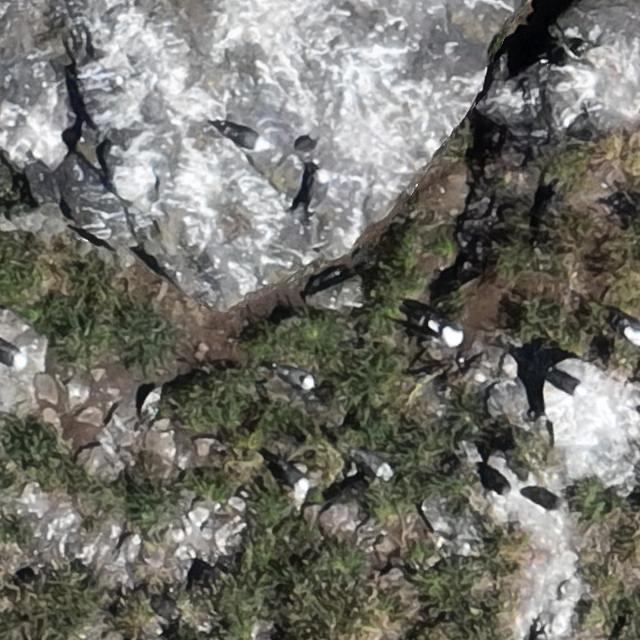umineko: (282, 464, 311, 494), (223, 128, 263, 149), (360, 454, 392, 478), (279, 367, 314, 388), (553, 373, 582, 394), (438, 325, 462, 348), (0, 343, 25, 365), (623, 326, 639, 347)
